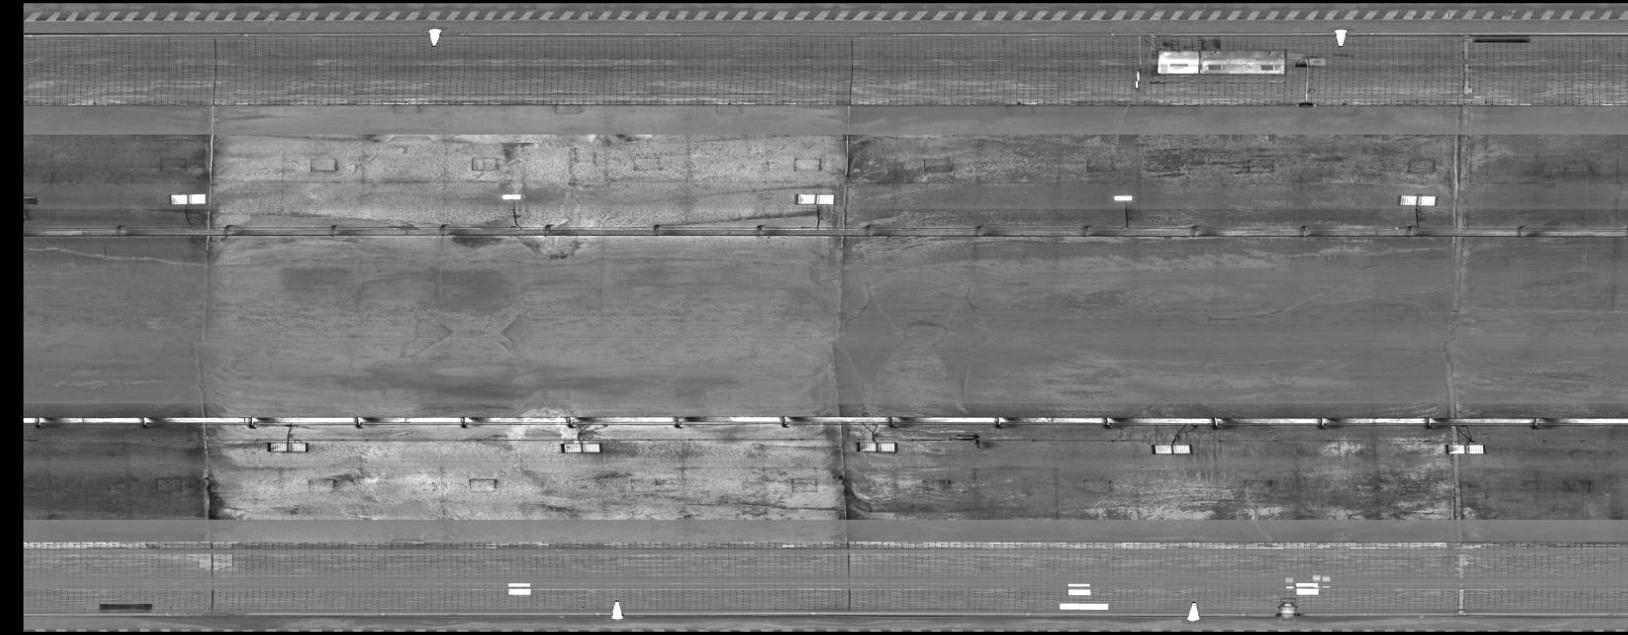light: (261, 437, 313, 455), (553, 439, 604, 458), (850, 437, 901, 455), (1146, 440, 1197, 459), (1441, 440, 1489, 457), (1393, 192, 1440, 209), (164, 189, 208, 206), (793, 190, 837, 208), (496, 192, 528, 202), (1108, 193, 1139, 203)
